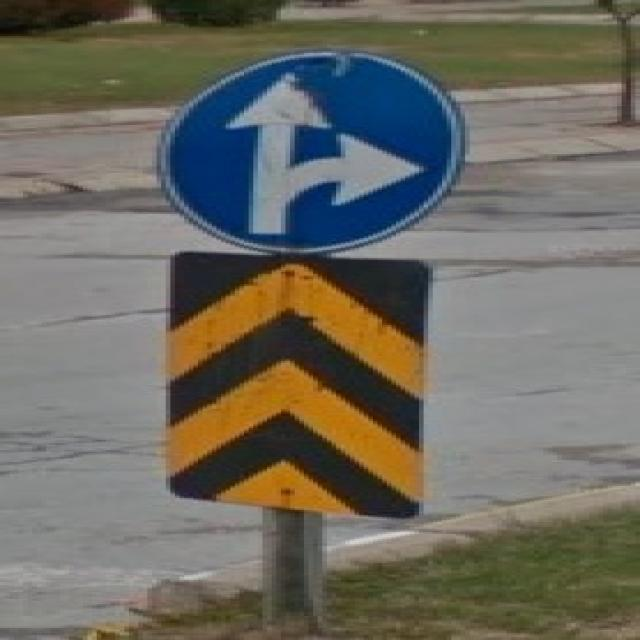Straight or Right: (165, 53, 455, 253)
